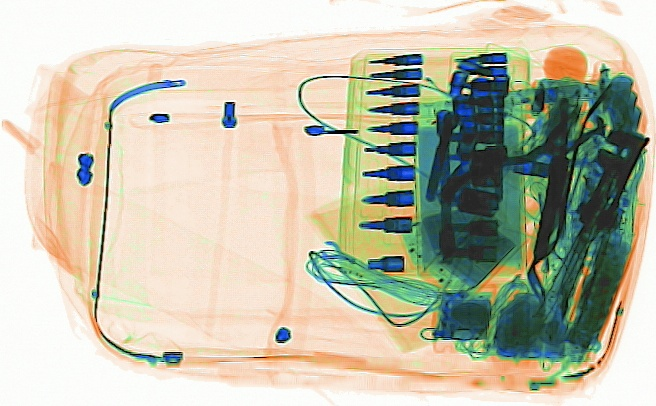powerbank: (396, 204, 526, 306), (587, 58, 646, 151)
